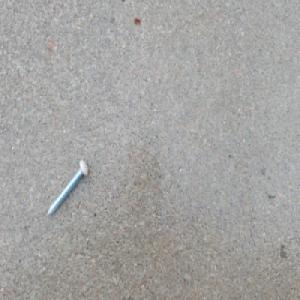Nail: (45, 157, 88, 218)
